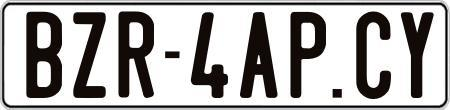4: (190, 12, 230, 101)
A: (238, 12, 280, 103)
B: (23, 12, 63, 100)
C: (354, 12, 391, 102)
P: (291, 9, 327, 101)
R: (117, 11, 157, 103)
Y: (400, 12, 432, 99)
Z: (71, 10, 105, 96)
